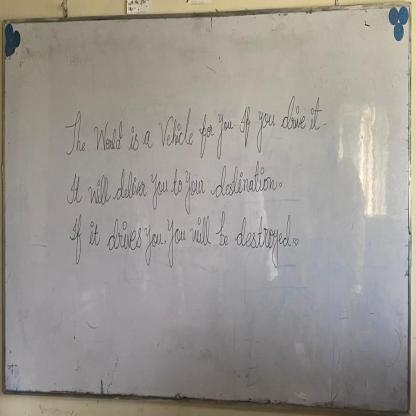Handwritten text: (65, 92, 342, 156), (66, 213, 294, 271), (60, 158, 278, 209)
